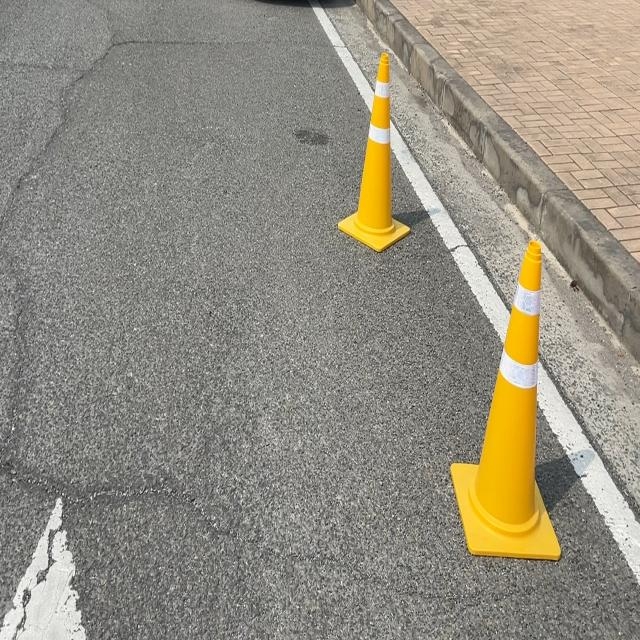y_rub: (451, 240, 562, 560), (339, 51, 410, 250)
